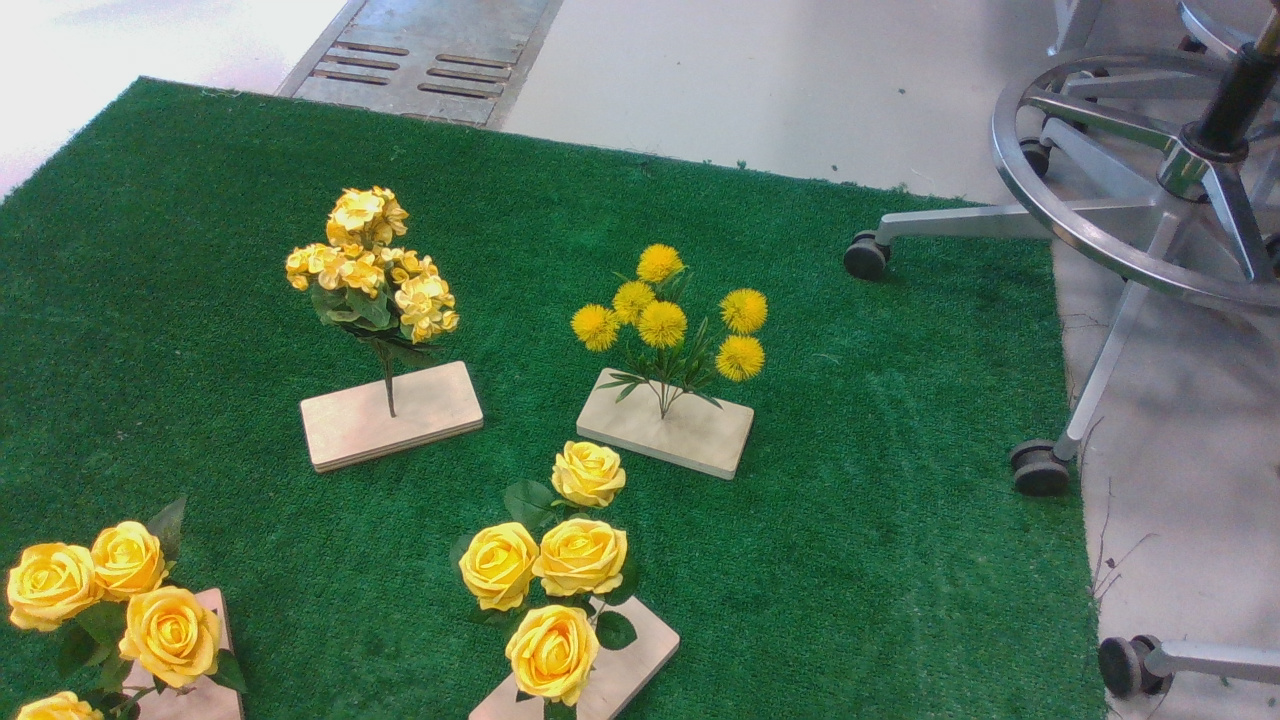dandelion: (569, 242, 787, 422)
geranium: (279, 188, 475, 363)
rose: (6, 489, 259, 720), (447, 444, 650, 720)
